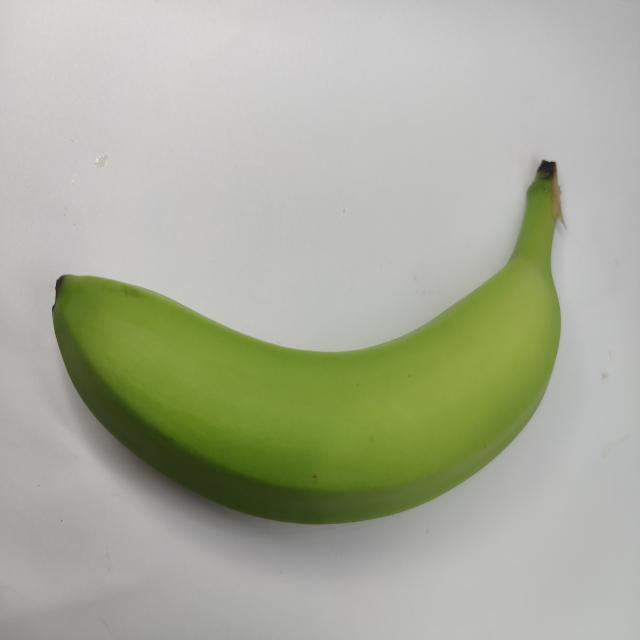raw: (41, 135, 596, 538)
